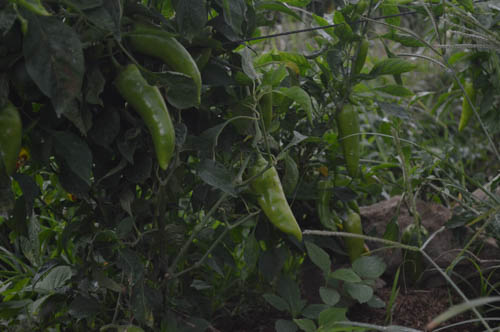ChiliPepper: (128, 19, 210, 109), (114, 60, 179, 172), (241, 158, 303, 244), (336, 91, 367, 177), (339, 205, 375, 266), (1, 102, 26, 183), (310, 172, 338, 237), (456, 73, 480, 135)
